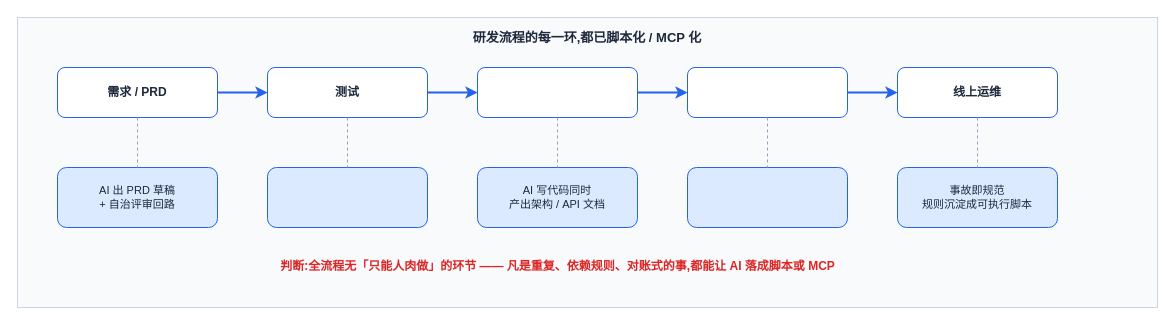
Some shapes in this 1175 by 325 pixel diagram are drawn without their labels. The shapes that lost their labels are listed below. From the top down, each one's centre as x and y in pixels, then its label:
At [557,92]: "文档".
At [767,92]: "部署 / 发布".
At [347,197]: "给函数签名 AI 产用例 + 过契约闸".
At [767,197]: "贴合项目的部署 + 回滚 健康检查脚本".
